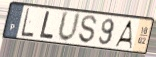9: (99, 18, 116, 47)
A: (113, 19, 134, 50)
L: (39, 10, 55, 40), (20, 7, 35, 39)
S: (78, 14, 98, 45)
U: (56, 10, 82, 44)
